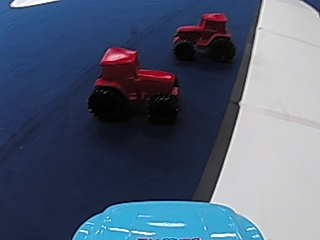Tracktor: (85, 46, 185, 125), (172, 11, 234, 63)
